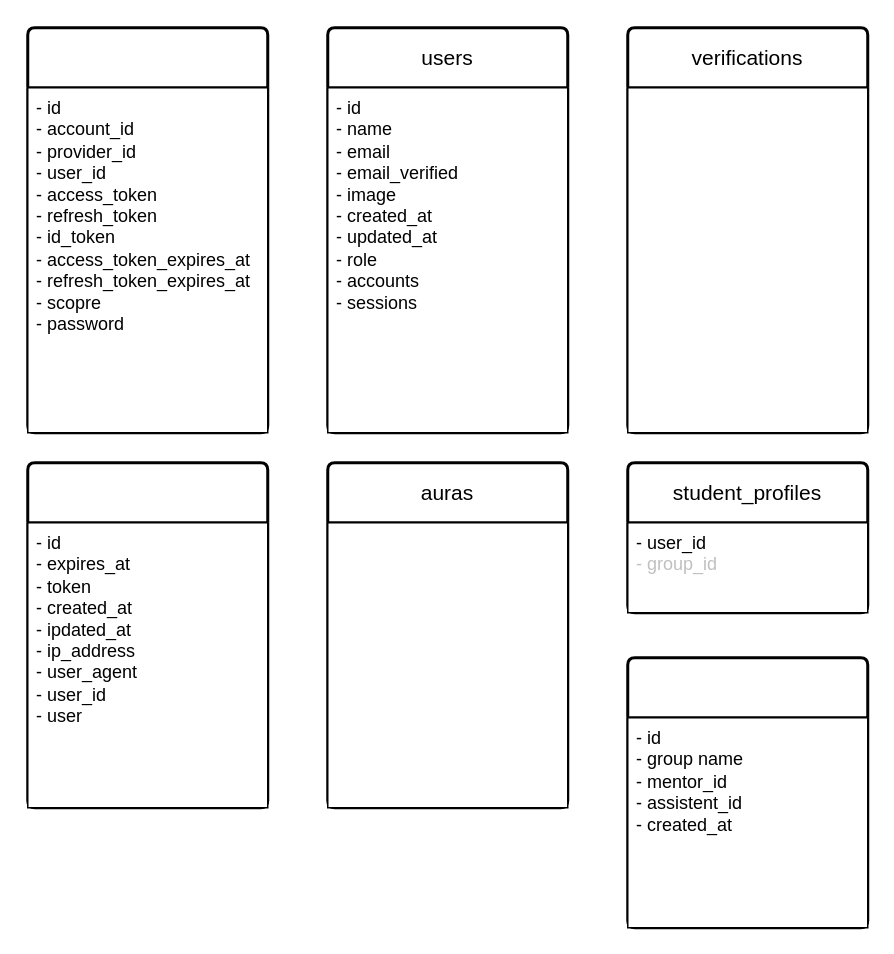
Image size: 894x954. Some labels were removed from this diagram. The box of each missing label's shape, as (x1, y1, x2, y2) in pixels:
- id - receiver_id - giver_id - created_at - category - aura: (326, 521, 568, 808)
- id - value - identifier - created_at - updated_at - expires_at: (626, 86, 868, 433)
accounts: (26, 26, 268, 434)
groups: (626, 656, 868, 928)
sessions: (26, 460, 268, 808)
